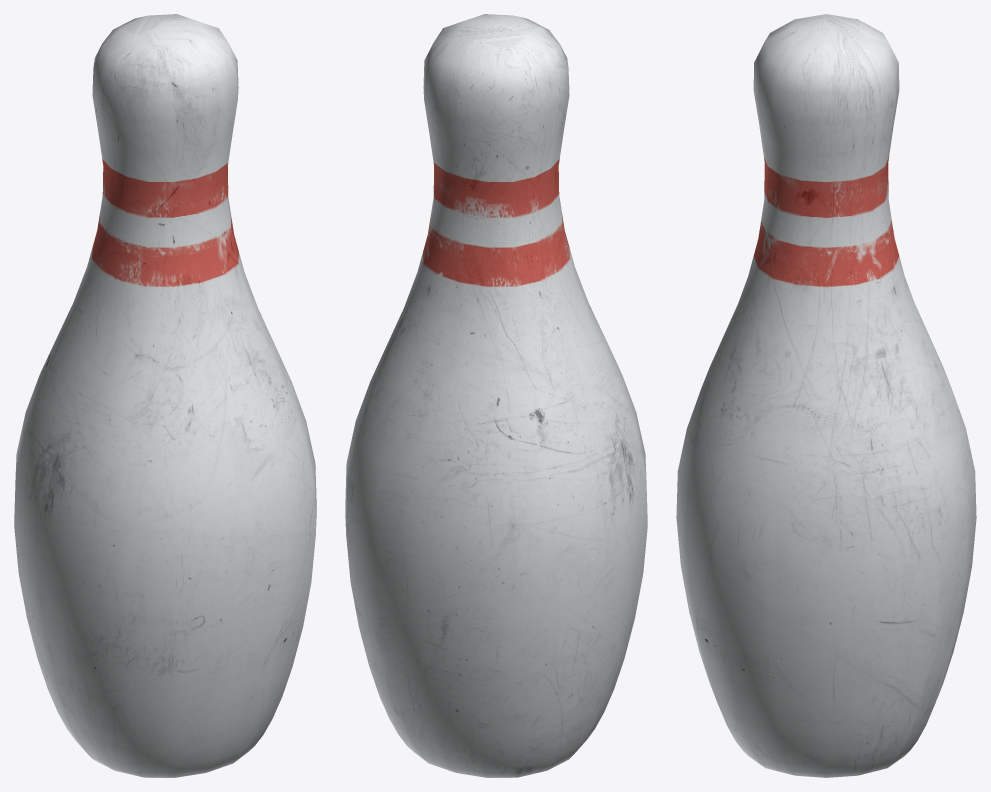
Rendered from bowling_pin.fbx.
3 views of the same model, side by side, from view 1: azimuth 30°, elevation 25°; view 2: azimuth 150°, elevation 25°; view 3: azimuth 270°, elevation 25° (orthographic).
Parts seen in each view (by area): view 1: pCube4; view 2: pCube4; view 3: pCube4.
Part boxes in pixels (<box>): pCube4: <box>14,14,316,777</box>; pCube4: <box>345,14,647,777</box>; pCube4: <box>676,14,976,777</box>.
Size of the model in its own units: 1.39 by 3.68 by 1.39.
1 material, 1 textured.
